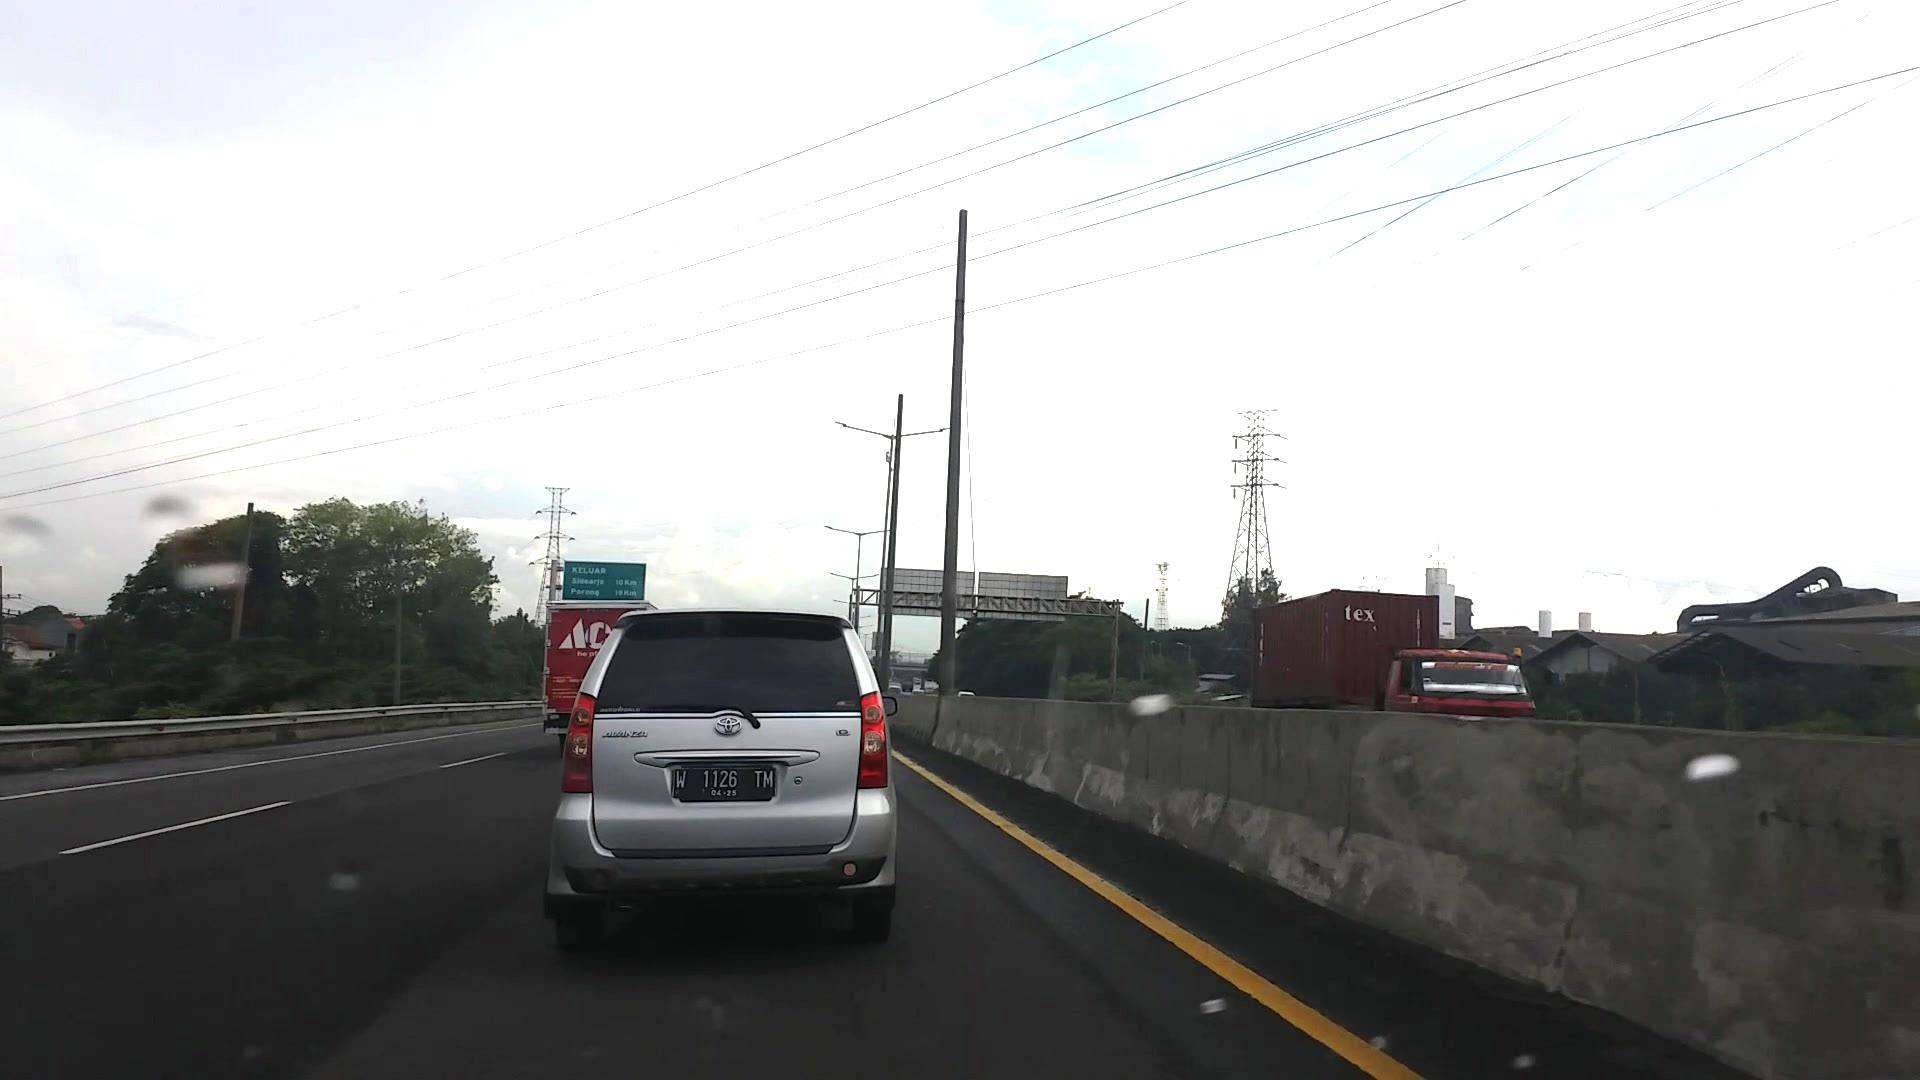plate_positive: (673, 766, 775, 802)
